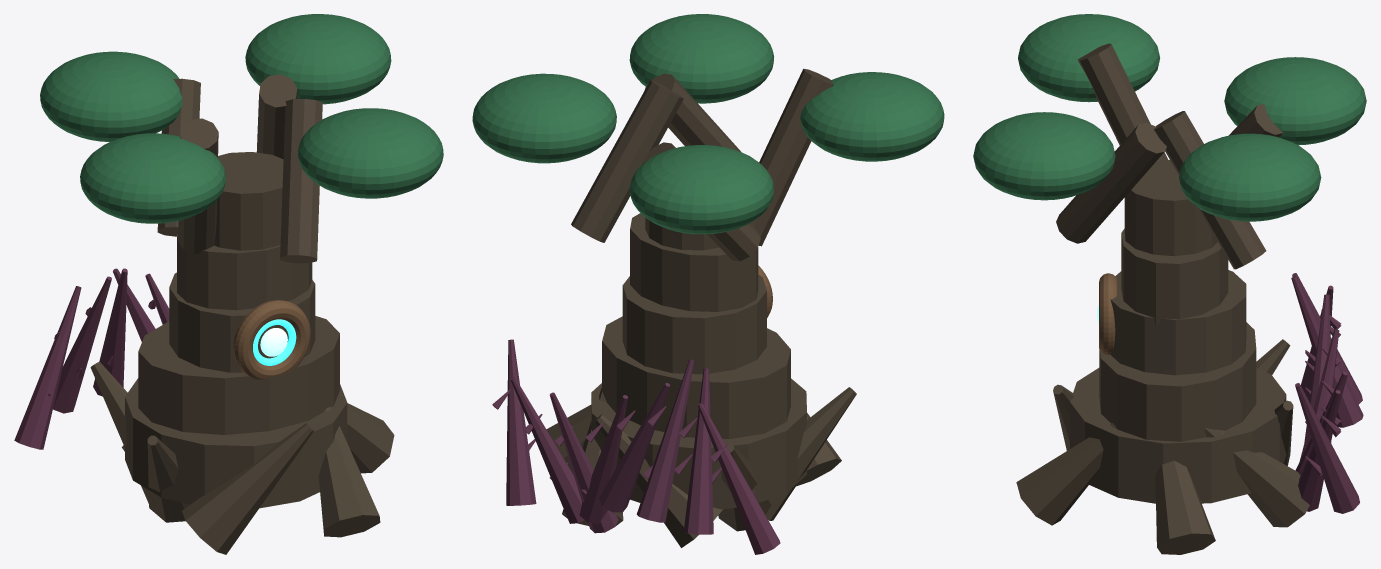
File: ag1_tree.glb
The picture shows the model from 3 angles, left to right: view 1: azimuth 30°, elevation 25°; view 2: azimuth 150°, elevation 25°; view 3: azimuth 270°, elevation 25°; orthographic projection. The views are drawn at different scales.
Parts seen in each view (by area): view 1: TrunkTier_1, TrunkTier_0, StarlightFoliage_3, StarlightFoliage_2, StarlightFoliage_1, StarlightFoliage_0, TrunkTier_3, TrunkTier_4, ButtressRoot_5, TrunkTier_2, CanopyBranch_3, ButtressRoot_6 (+13 smaller); view 2: TrunkTier_1, StarlightFoliage_0, StarlightFoliage_1, StarlightFoliage_2, StarlightFoliage_3, TrunkTier_2, TrunkTier_3, TrunkTier_0, CanopyBranch_0, CanopyBranch_2, RootWallBar_2, RootWallBar_7 (+15 smaller); view 3: TrunkTier_0, TrunkTier_1, StarlightFoliage_3, StarlightFoliage_0, StarlightFoliage_1, TrunkTier_2, StarlightFoliage_2, TrunkTier_3, TrunkTier_4, CanopyBranch_3, ButtressRoot_0, ButtressRoot_6 (+16 smaller).
Part boxes in pixels (<box>): TrunkTier_1: <box>138,316,339,434</box>; TrunkTier_0: <box>125,378,347,508</box>; StarlightFoliage_3: <box>297,108,443,198</box>; StarlightFoliage_2: <box>80,133,225,223</box>; StarlightFoliage_1: <box>40,51,182,142</box>; StarlightFoliage_0: <box>245,14,391,104</box>; TrunkTier_3: <box>177,234,312,310</box>; TrunkTier_4: <box>214,152,283,250</box>; ButtressRoot_5: <box>182,423,313,554</box>; TrunkTier_2: <box>169,272,315,372</box>; CanopyBranch_3: <box>280,99,322,263</box>; ButtressRoot_6: <box>318,407,380,537</box>; TrunkTier_1: <box>602,316,790,438</box>; StarlightFoliage_0: <box>472,73,616,163</box>; StarlightFoliage_1: <box>629,145,773,234</box>; StarlightFoliage_2: <box>800,72,944,161</box>; StarlightFoliage_3: <box>629,14,773,103</box>; TrunkTier_2: <box>622,274,766,374</box>; TrunkTier_3: <box>630,213,758,311</box>; TrunkTier_0: <box>591,378,806,509</box>; CanopyBranch_0: <box>571,80,683,242</box>; CanopyBranch_2: <box>750,68,833,246</box>; RootWallBar_2: <box>637,359,694,522</box>; RootWallBar_7: <box>506,339,536,505</box>; TrunkTier_0: <box>1070,368,1286,503</box>; TrunkTier_1: <box>1099,322,1256,441</box>; StarlightFoliage_3: <box>973,112,1115,200</box>; StarlightFoliage_0: <box>1179,133,1321,221</box>; StarlightFoliage_1: <box>1224,57,1366,145</box>; TrunkTier_2: <box>1110,270,1246,375</box>; StarlightFoliage_2: <box>1018,14,1159,102</box>; TrunkTier_3: <box>1121,228,1228,324</box>; TrunkTier_4: <box>1124,159,1217,256</box>; CanopyBranch_3: <box>1056,123,1166,243</box>; ButtressRoot_0: <box>1155,460,1215,554</box>; ButtressRoot_6: <box>1016,423,1115,525</box>.
Bounding box in the file's own units: 6.21 × 6.81 × 5.8.
